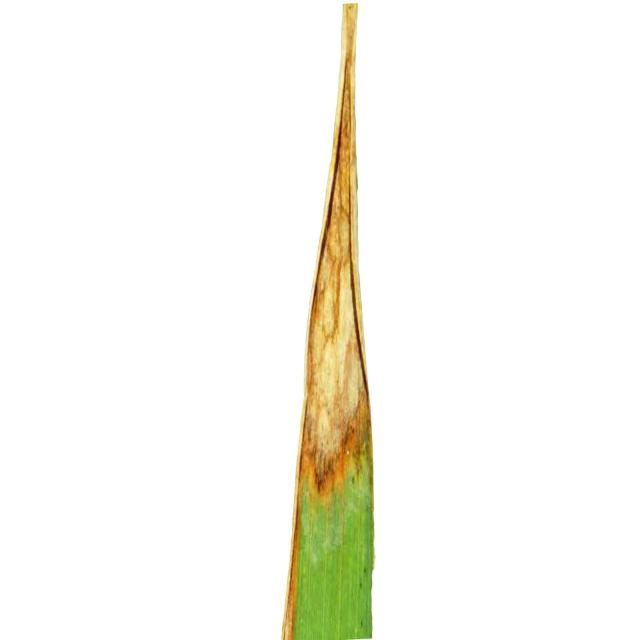Leaf scald: (202, 0, 506, 640)
